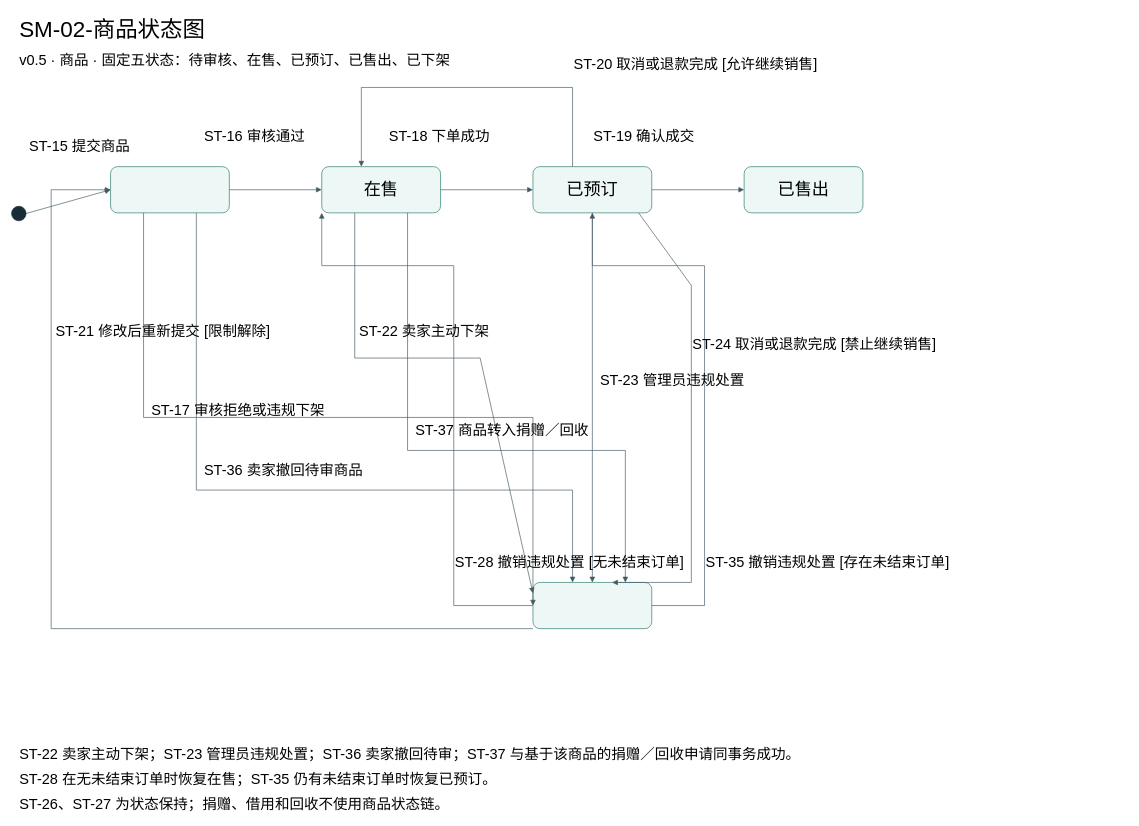
The diagram is 1139 pixels wide and 826 high, and some of its shapes have lost their labels. Here are the shapes that lost their labels. From the top down, the centre of each, then its label:
At (x=169, y=189): "待审核".
At (x=592, y=605): "已下架".
